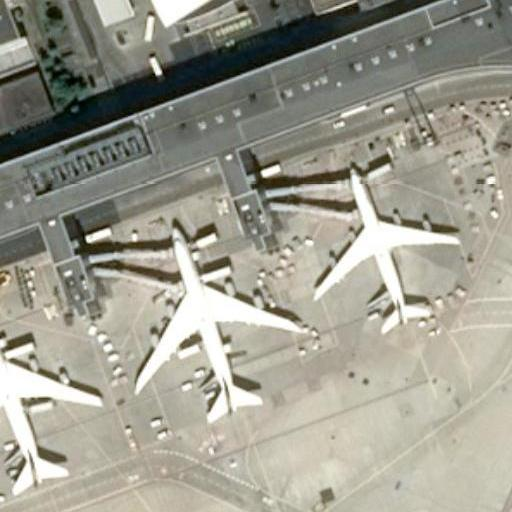Aircraft: (122, 208, 304, 426), (294, 146, 468, 336), (0, 326, 109, 498)
